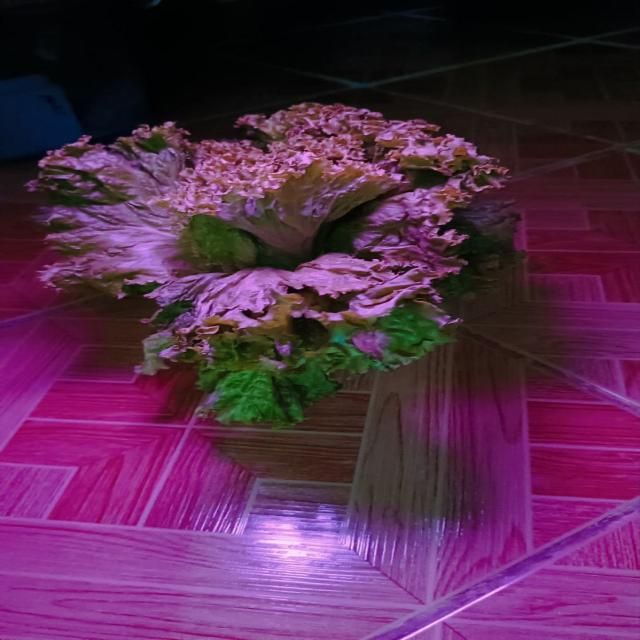Lettuce-Ready-to-Harvest: (30, 104, 509, 423)
